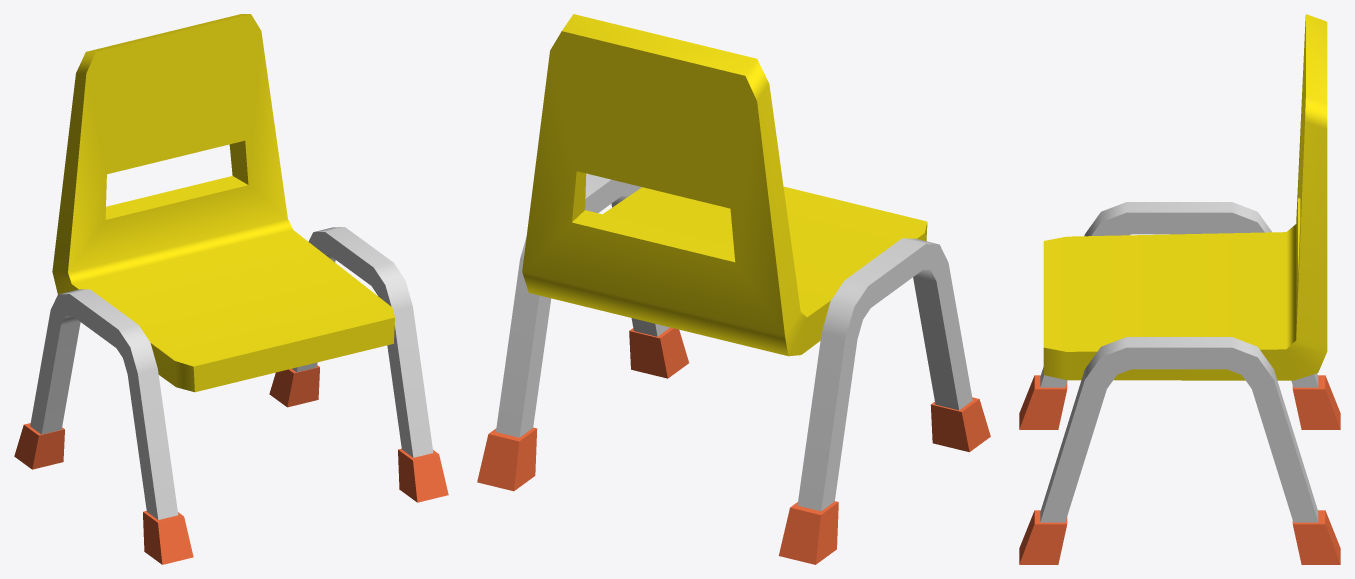
Rendered from kitchen_chair_036.glb.
The picture shows the model from 3 angles, left to right: view 1: azimuth 30°, elevation 25°; view 2: azimuth 150°, elevation 25°; view 3: azimuth 270°, elevation 25°; orthographic projection. The views are drawn at different scales.
Visible parts, largest first — view 1: kitchen_chair_036; view 2: kitchen_chair_036; view 3: kitchen_chair_036.
Boxes of the visible parts, box(x1,y1,x2,y2) form: kitchen_chair_036: box(14, 14, 448, 564); kitchen_chair_036: box(477, 14, 990, 564); kitchen_chair_036: box(1019, 14, 1340, 564).
Bounding box in the file's own units: 0.3497 × 0.4672 × 0.3135.
1 material, 1 textured.
